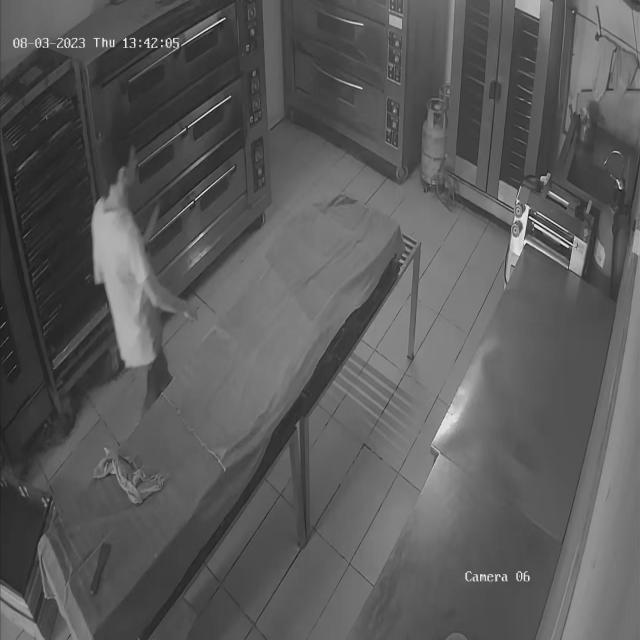Knife: (142, 201, 170, 242)
